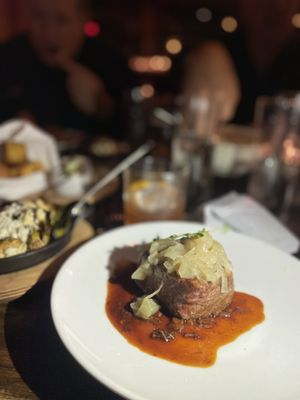pizza: (122, 129, 191, 223)
salad: (50, 139, 157, 241)
